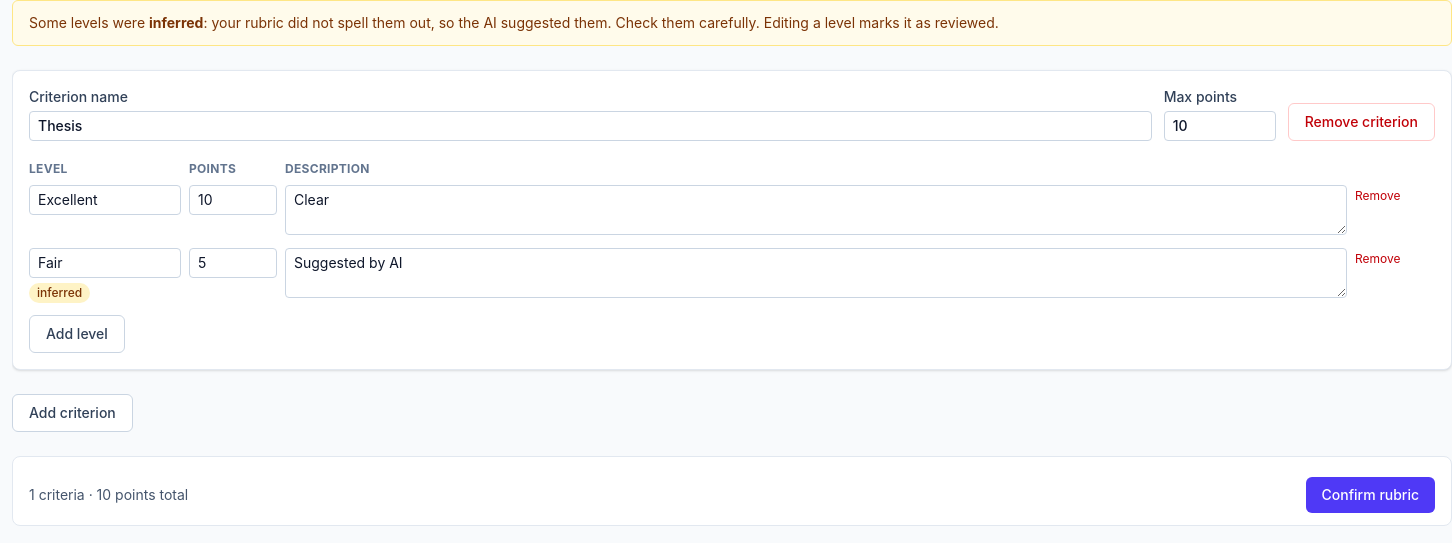
Test: RubricEditor › flags inferred levels and clears the flag when the level is edited
expect the text "inferred" below "Description" is shown: met, box [37,285,82,300]
expect the text "Some levels were" is shown: met, box [29,14,149,31]
Step 1. Type "!" into the 2nd text box named "Level description" → (816, 273), box [285,248,1347,298]
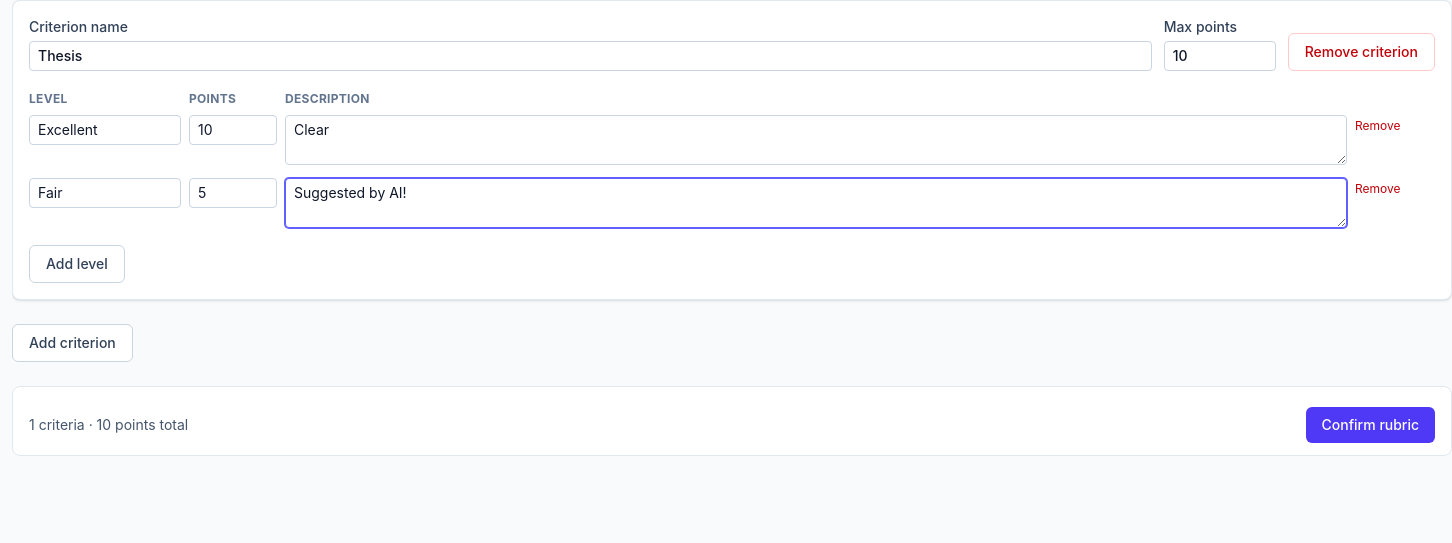
expect the text "inferred" is gone: met
expect the text "Some levels were" is gone: met
